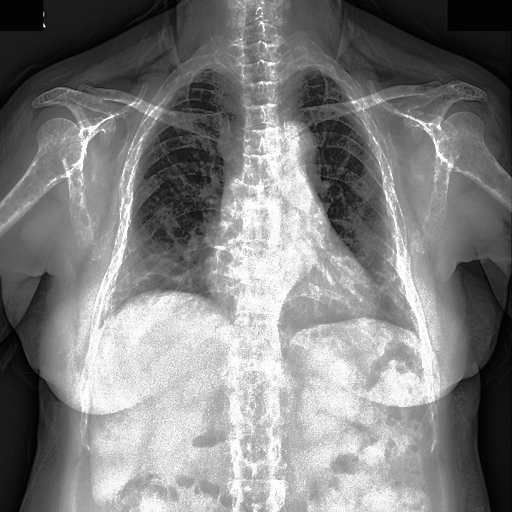Consolidation: (268, 120, 314, 176)
Nodule/Mass: (205, 241, 381, 320)
Pneumothorax: (140, 269, 191, 293)
